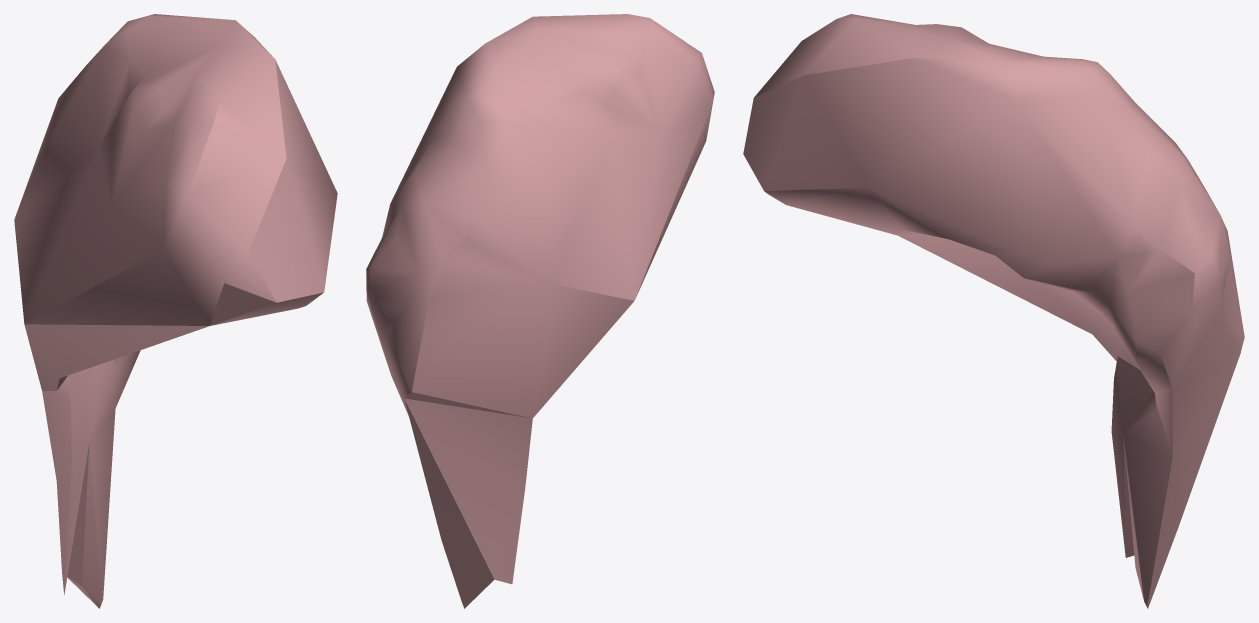
The model's file is fma18257_fj3136.glb.
3 views of the same model, side by side, from view 1: azimuth 30°, elevation 25°; view 2: azimuth 150°, elevation 25°; view 3: azimuth 270°, elevation 25° (orthographic). The views are drawn at different scales.
Visible parts, largest first — view 1: FMA18257_FJ3136; view 2: FMA18257_FJ3136; view 3: FMA18257_FJ3136.
Part boxes in pixels (x1=…): FMA18257_FJ3136: x1=14, y1=14, x2=337, y2=608; FMA18257_FJ3136: x1=366, y1=14, x2=714, y2=608; FMA18257_FJ3136: x1=743, y1=14, x2=1244, y2=608.
Bounding box in the file's own units: 0.0109 × 0.0257 × 0.0203.
